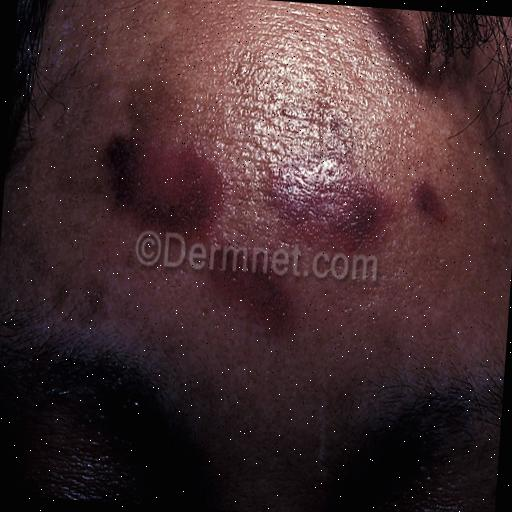Skin_Lesion: (98, 114, 226, 257), (258, 154, 394, 258), (214, 252, 301, 334), (405, 166, 451, 230)
